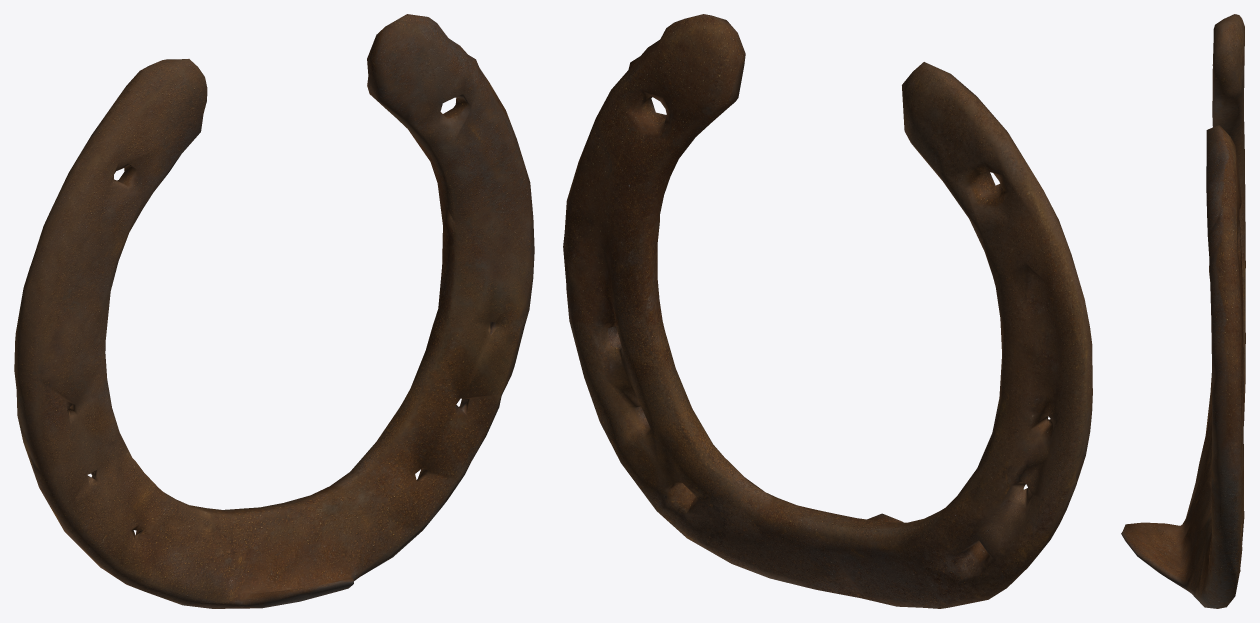
The picture shows the model from 3 angles, left to right: view 1: azimuth 30°, elevation 25°; view 2: azimuth 150°, elevation 25°; view 3: azimuth 270°, elevation 25°; orthographic projection. The views are drawn at different scales.
Visible parts, largest first — view 1: udzrbfmfa_LOD0_TIER2_000; view 2: udzrbfmfa_LOD0_TIER2_000; view 3: udzrbfmfa_LOD0_TIER2_000.
Part boxes in pixels (x1,y1,x2,y2): udzrbfmfa_LOD0_TIER2_000: (14, 14, 534, 608); udzrbfmfa_LOD0_TIER2_000: (563, 14, 1092, 608); udzrbfmfa_LOD0_TIER2_000: (1121, 14, 1245, 608).
Bounding box in the file's own units: 0.1279 × 0.1319 × 0.0293.
Materials: 1 (1 with a texture image).
